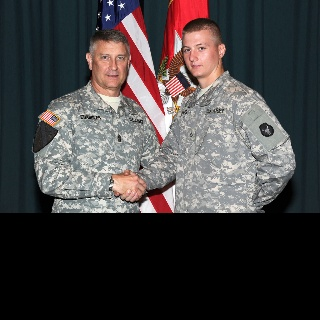without_mask: (92, 41, 128, 87), (182, 32, 219, 76)
